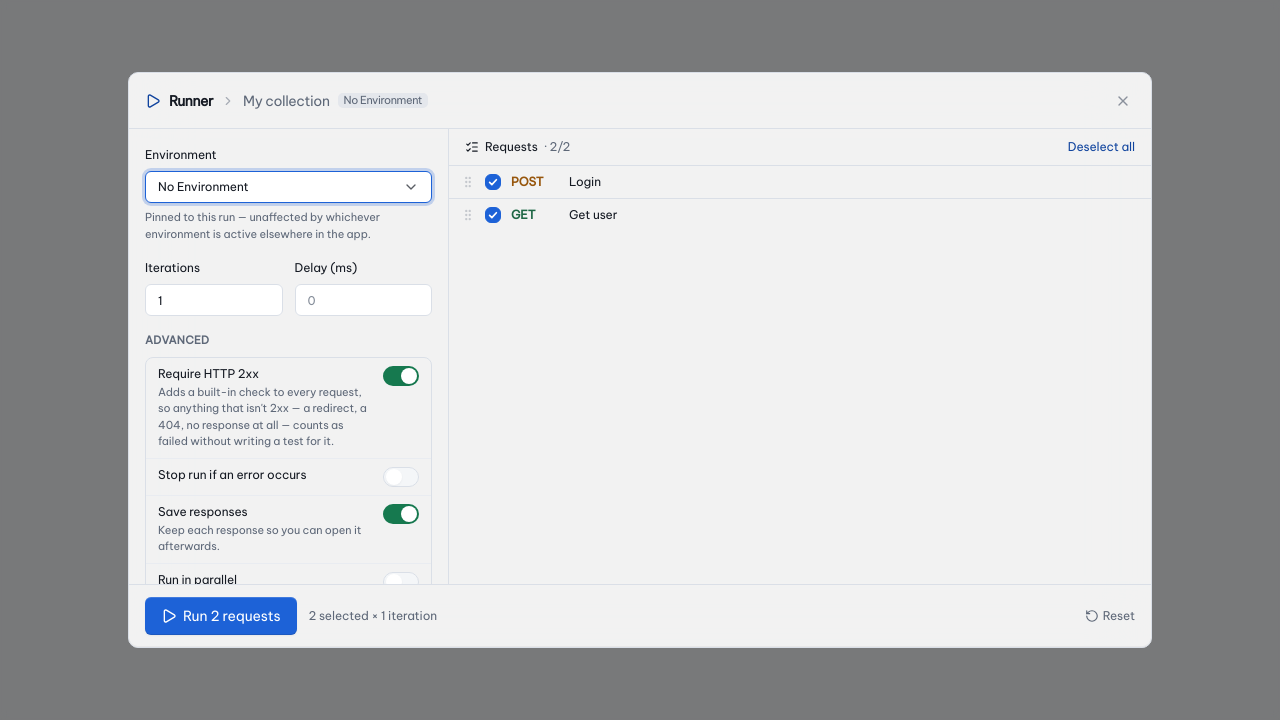
Test: RunnerDialog run loop › jumps to the iteration a status code came from
The image size is (1280, 720).
Replace the text in the field labelled "Iterations" with "2" at coordinates (214, 300), box [145,284,282,316]
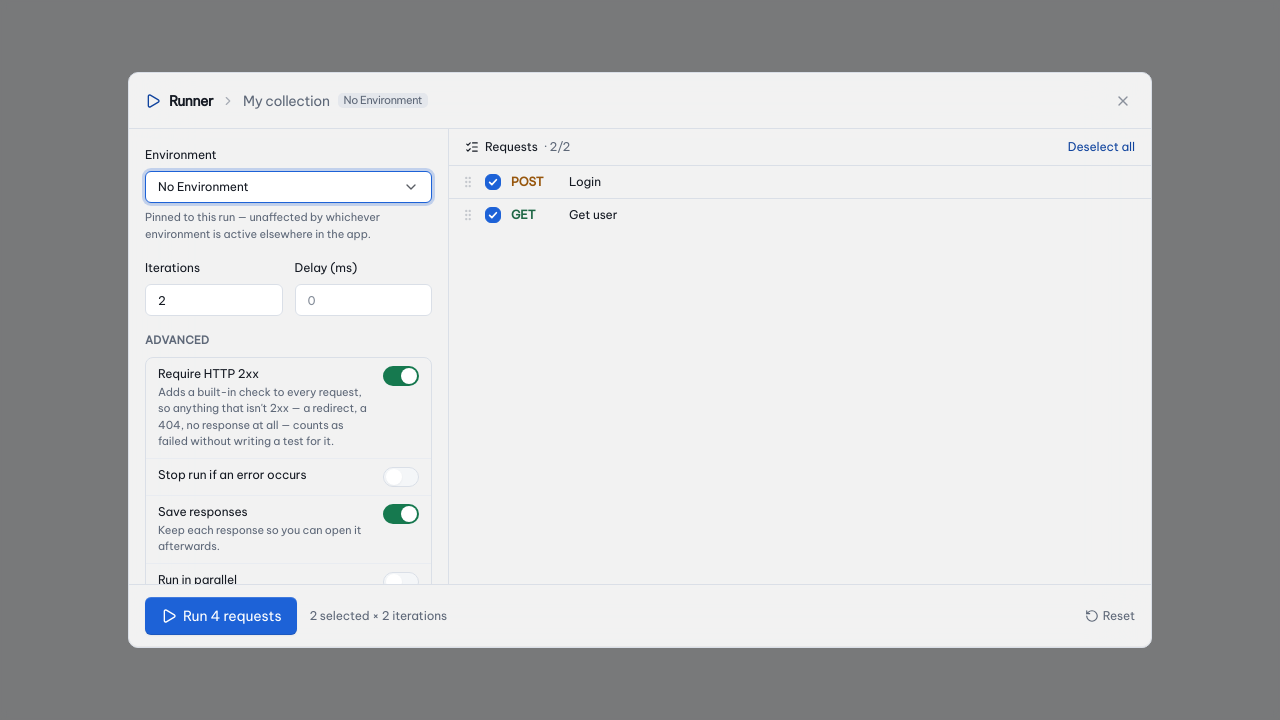
Click the button "Run 4 requests" at coordinates (221, 616), box [145,597,297,635]
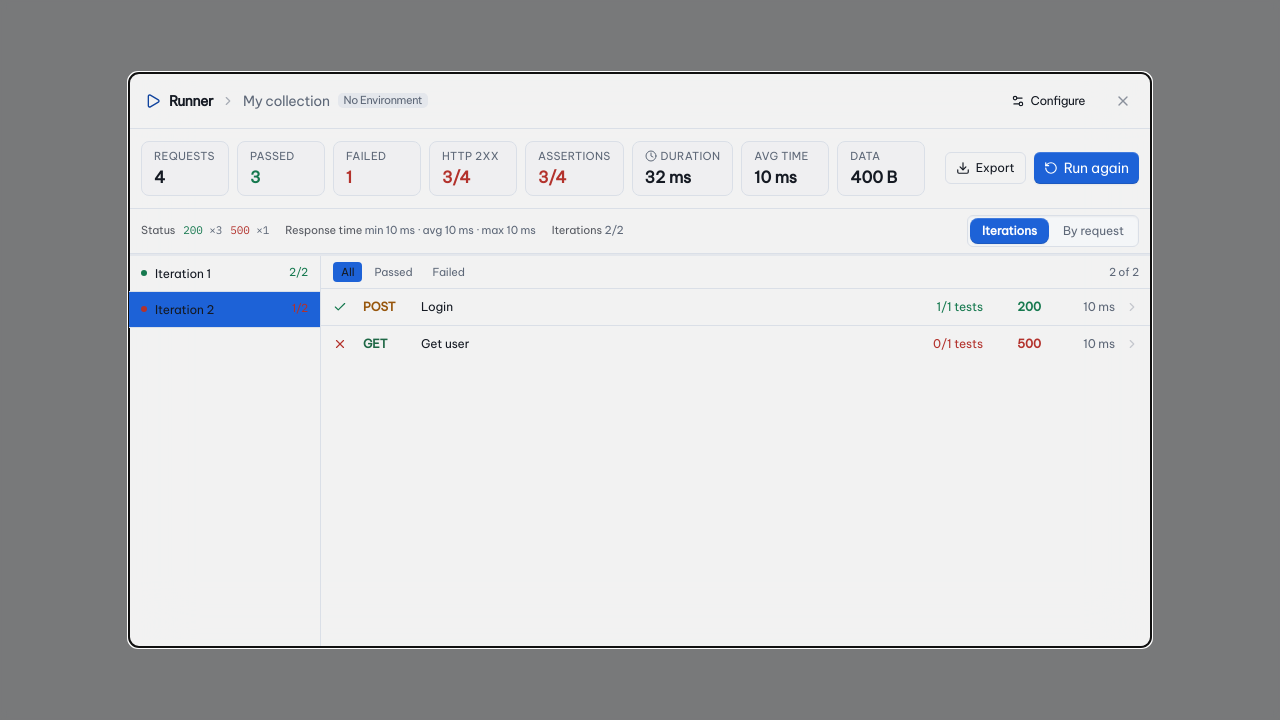
Click the button "Iteration 1 2/2" at coordinates (224, 274), box [129,256,320,292]
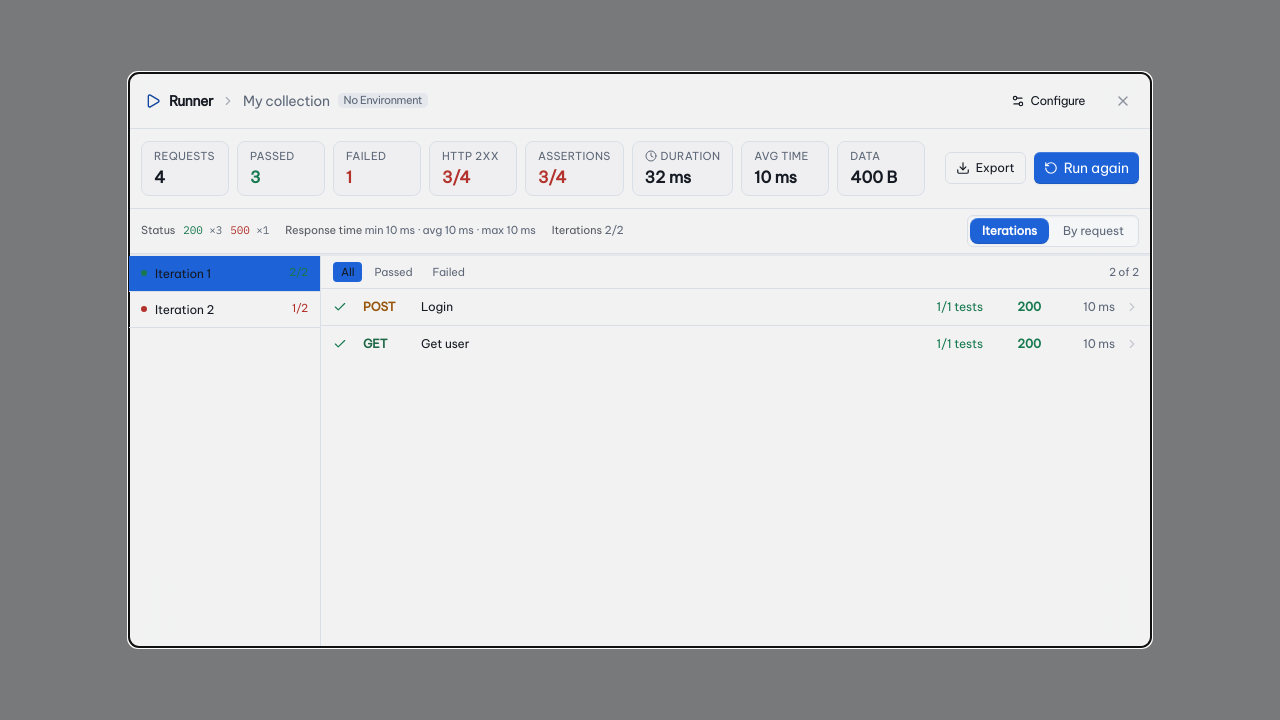
Click the button "500 ×1" at coordinates (250, 231), box [228,222,271,239]
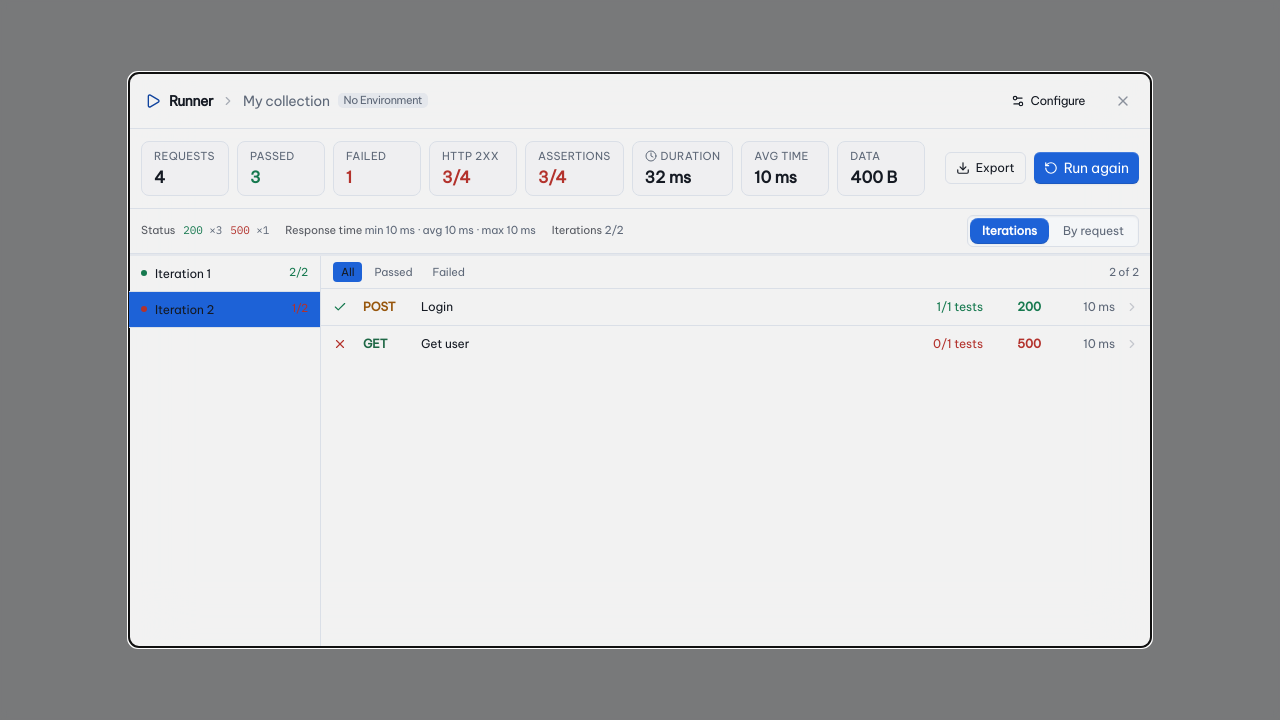
Result: the text titled "500 Server Error" below "2 of 2" is shown at [1017,336,1041,351]
